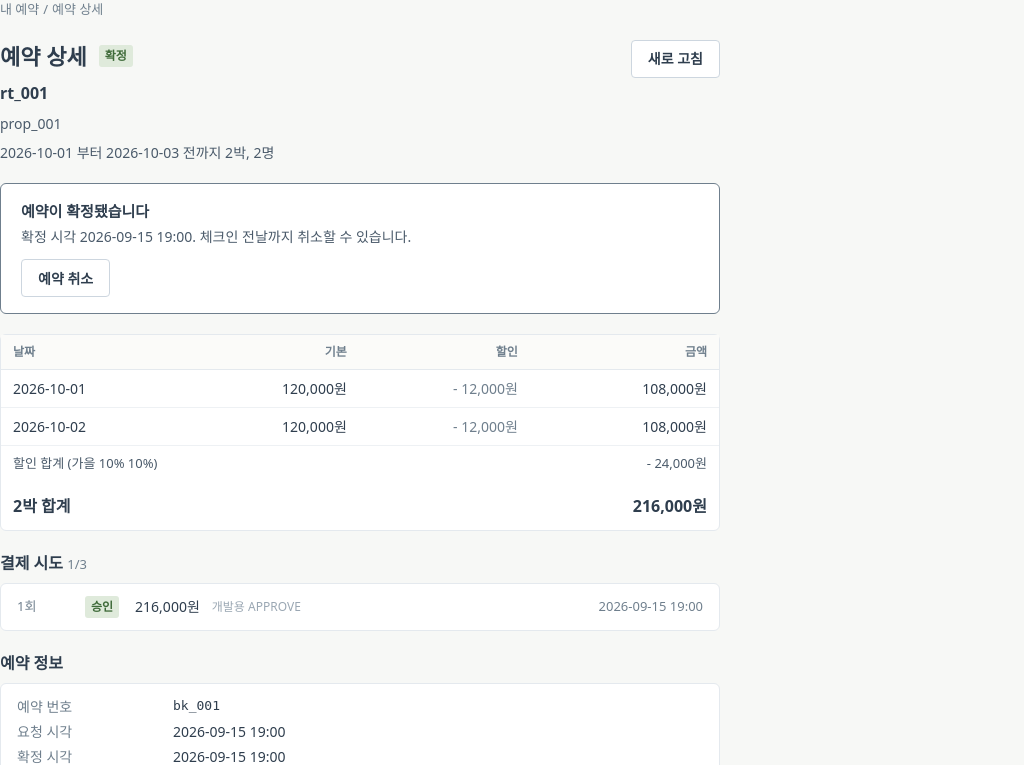
G7 예약 상세 › 사유를 비우면 본문이 빈 객체
The width and height of the screenshot is (1024, 765).
Expected: the text "예약이 확정됐습니다" is shown, [21,200,149,220]
Click the button "예약 취소": (66, 278) [21,259,110,297]
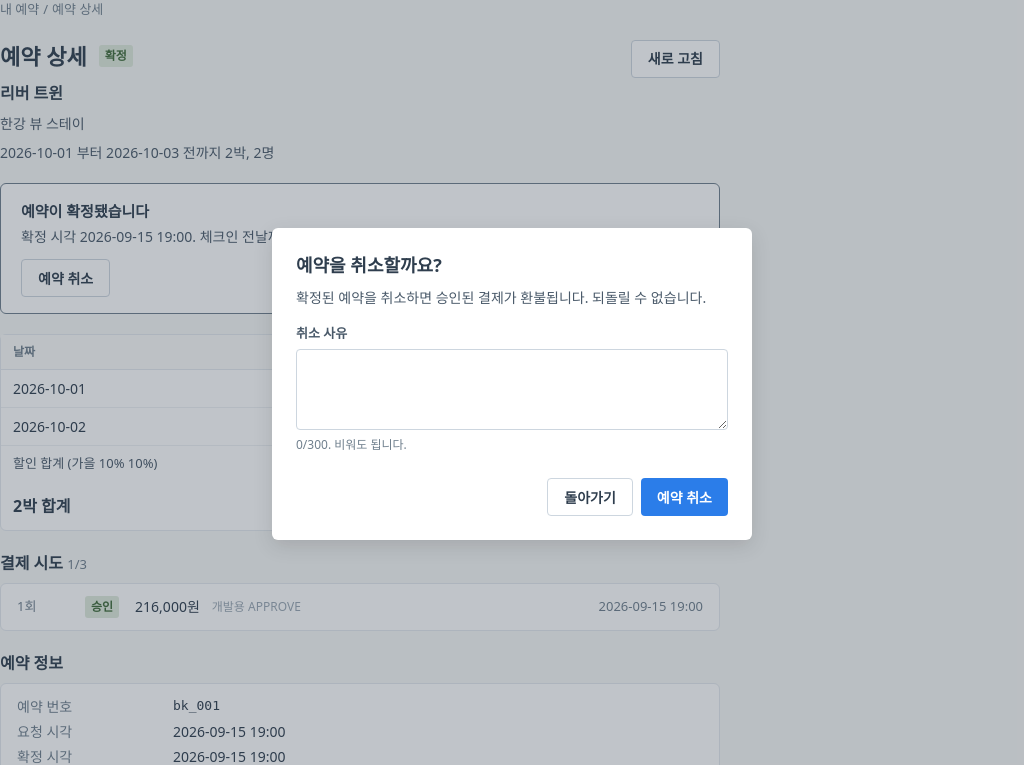
Click the button "예약 취소": (684, 497) [641,478,728,516]
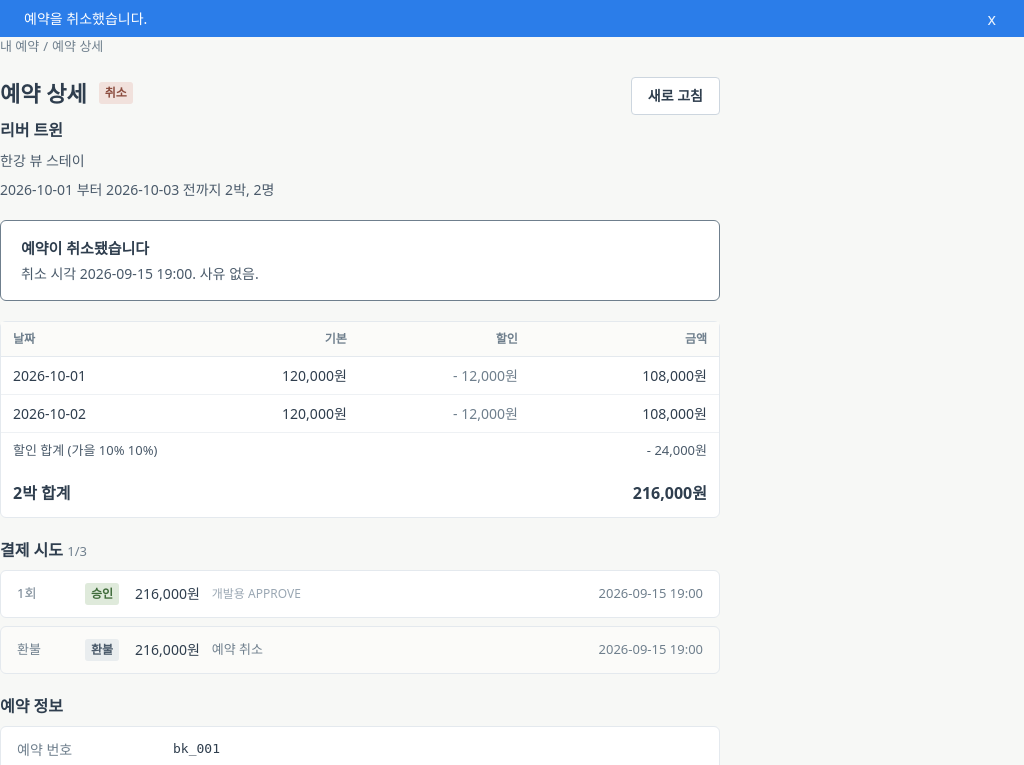
Expected: the text "예약이 취소됐습니다" is shown, [21,238,149,258]
Expected: the text "취소 시각 2026-09-15 19:00. 사유 없음." is shown, [21,264,259,283]
